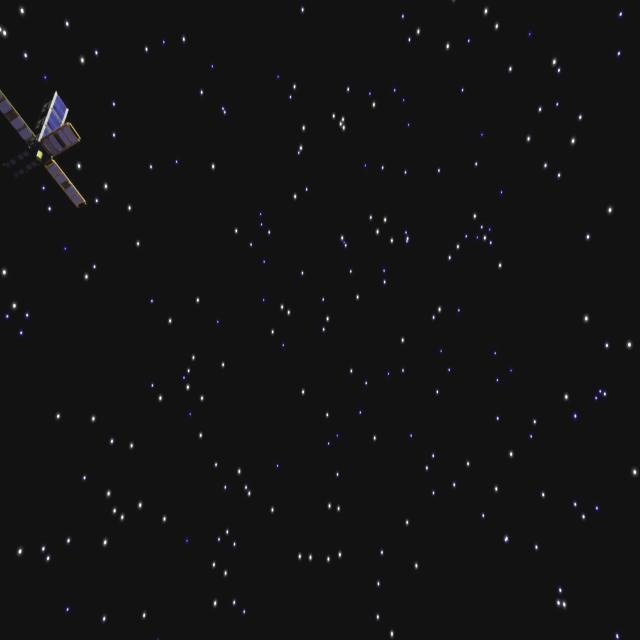medium_debris: (0, 73, 100, 207)
